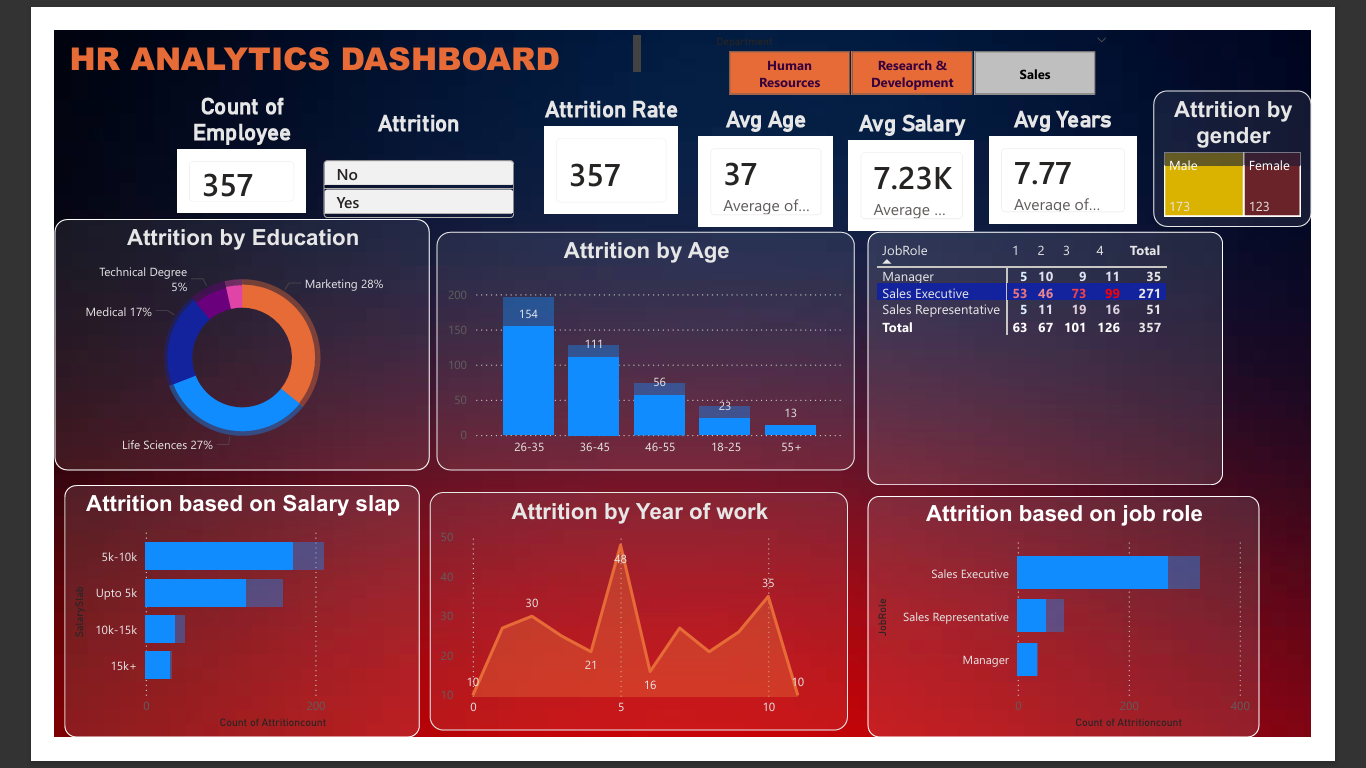

This screenshot's page, from the dashboard's own definition file:
{"tool":"powerbi","page":{"name":"Page 1","canvas":[1280,720],"ordinal":0},"visuals":[{"type":"cardVisual","title":"Count of Employee","fields":{"Data":["CountNonNull(Sheet1.EmpID)"]},"box":[120,63.6,141.7,127.2],"z":0},{"type":"cardVisual","title":"Attrition","fields":{"Data":["CountNonNull(Sheet1.EmpID)"],"Rows":["Sheet1.Attrition"]},"box":[268.9,81,203.9,135.9],"z":1000},{"type":"cardVisual","title":"Avg Age","fields":{"Data":["Avg(Sheet1.Age)"]},"box":[650.6,76.6,147.5,128.7],"z":2000},{"type":"cardVisual","title":"Attrition Rate","fields":{"Data":["CountNonNull(Sheet1.EmpID)"]},"box":[494.5,66.5,146,125.8],"z":3000},{"type":"cardVisual","title":"Avg Salary","fields":{"Data":["Avg(Sheet1.MonthlyIncome)"]},"box":[803.9,81,138.8,128.7],"z":4000},{"type":"cardVisual","title":"Avg Years","fields":{"Data":["Avg(Sheet1.YearsAtCompany)"]},"box":[947,76.6,160.5,125.8],"z":5000},{"type":"donutChart","title":"Attrition by Education","fields":{"Category":["Sheet1.EducationField"],"Y":["CountNonNull(Sheet1.Attritioncount)"]},"box":[0,192.3,381.7,255.9],"z":6000},{"type":"columnChart","title":"Attrition by Age","fields":{"Category":["Sheet1.AgeGroup"],"Y":["CountNonNull(Sheet1.Attritioncount)"]},"box":[388.9,205.3,426.5,242.9],"z":7000},{"type":"pivotTable","title":"Attrition based on job role","fields":{"Rows":["Sheet1.JobRole"],"Columns":["Sheet1.JobSatisfaction"],"Values":["CountNonNull(Sheet1.Attritioncount)"]},"box":[828.4,205.3,361.4,257.3],"z":8000},{"type":"barChart","title":"Attrition based on Salary slap","fields":{"Category":["Sheet1.SalarySlab"],"Y":["CountNonNull(Sheet1.Attritioncount)"]},"box":[10,463,362,257],"z":9000},{"type":"barChart","title":"Attrition based on job role","fields":{"Category":["Sheet1.JobRole"],"Y":["CountNonNull(Sheet1.Attritioncount)"]},"box":[828.4,474.2,399,245.8],"z":10000},{"type":"areaChart","title":"Attrition by Year  of work","fields":{"Category":["Sheet1.YearsAtCompany"],"Y":["CountNonNull(Sheet1.Attritioncount)"]},"box":[381.7,469.9,426.5,242.9],"z":11000},{"type":"treemap","title":"Attrition by gender","fields":{"Group":["Sheet1.Gender"],"Values":["CountNonNull(Sheet1.Attritioncount)"]},"box":[1119,60.7,160.5,138.8],"z":12000},{"type":"slicer","fields":{"Values":["Sheet1.Department"]},"box":[660.7,0,423.6,66.5],"z":12001},{"type":"textbox","box":[10.1,0,592.8,50.6],"z":12002}]}

Visuals, with their boxes in screenshot pixels (x1, y1, x2, y2), scaled from the page's 1280x720 canvas onto the 1366x768 screenshot:
"Count of Employee" cardVisual: detection(128, 68, 279, 204)
"Attrition" cardVisual: detection(287, 86, 505, 231)
"Avg Age" cardVisual: detection(694, 82, 852, 219)
"Attrition Rate" cardVisual: detection(528, 71, 684, 205)
"Avg Salary" cardVisual: detection(858, 86, 1006, 224)
"Avg Years" cardVisual: detection(1011, 82, 1182, 216)
"Attrition by Education" donutChart: detection(0, 205, 407, 478)
"Attrition by Age" columnChart: detection(415, 219, 870, 478)
"Attrition based on job role" pivotTable: detection(884, 219, 1270, 493)
"Attrition based on Salary slap" barChart: detection(11, 494, 397, 767)
"Attrition based on job role" barChart: detection(884, 506, 1310, 767)
"Attrition by Year  of work" areaChart: detection(407, 501, 863, 760)
"Attrition by gender" treemap: detection(1194, 65, 1365, 213)
slicer - Sheet1.Department: detection(705, 0, 1157, 71)
textbox: detection(11, 0, 643, 54)
